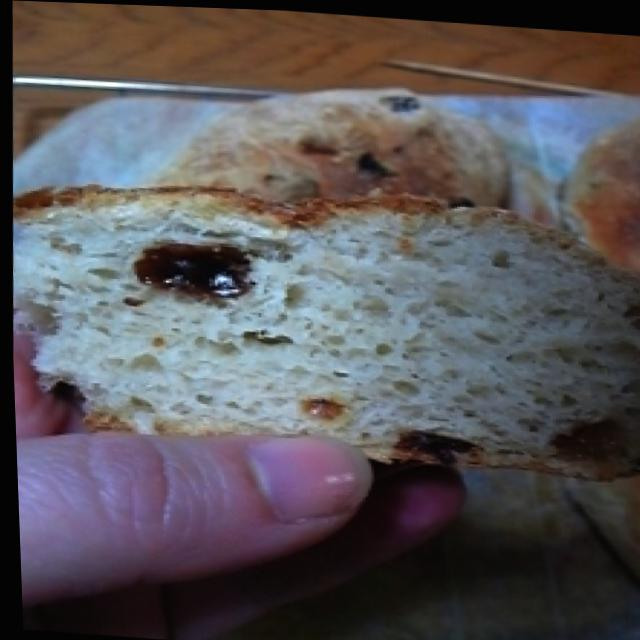面包点心: (1, 36, 640, 479)
